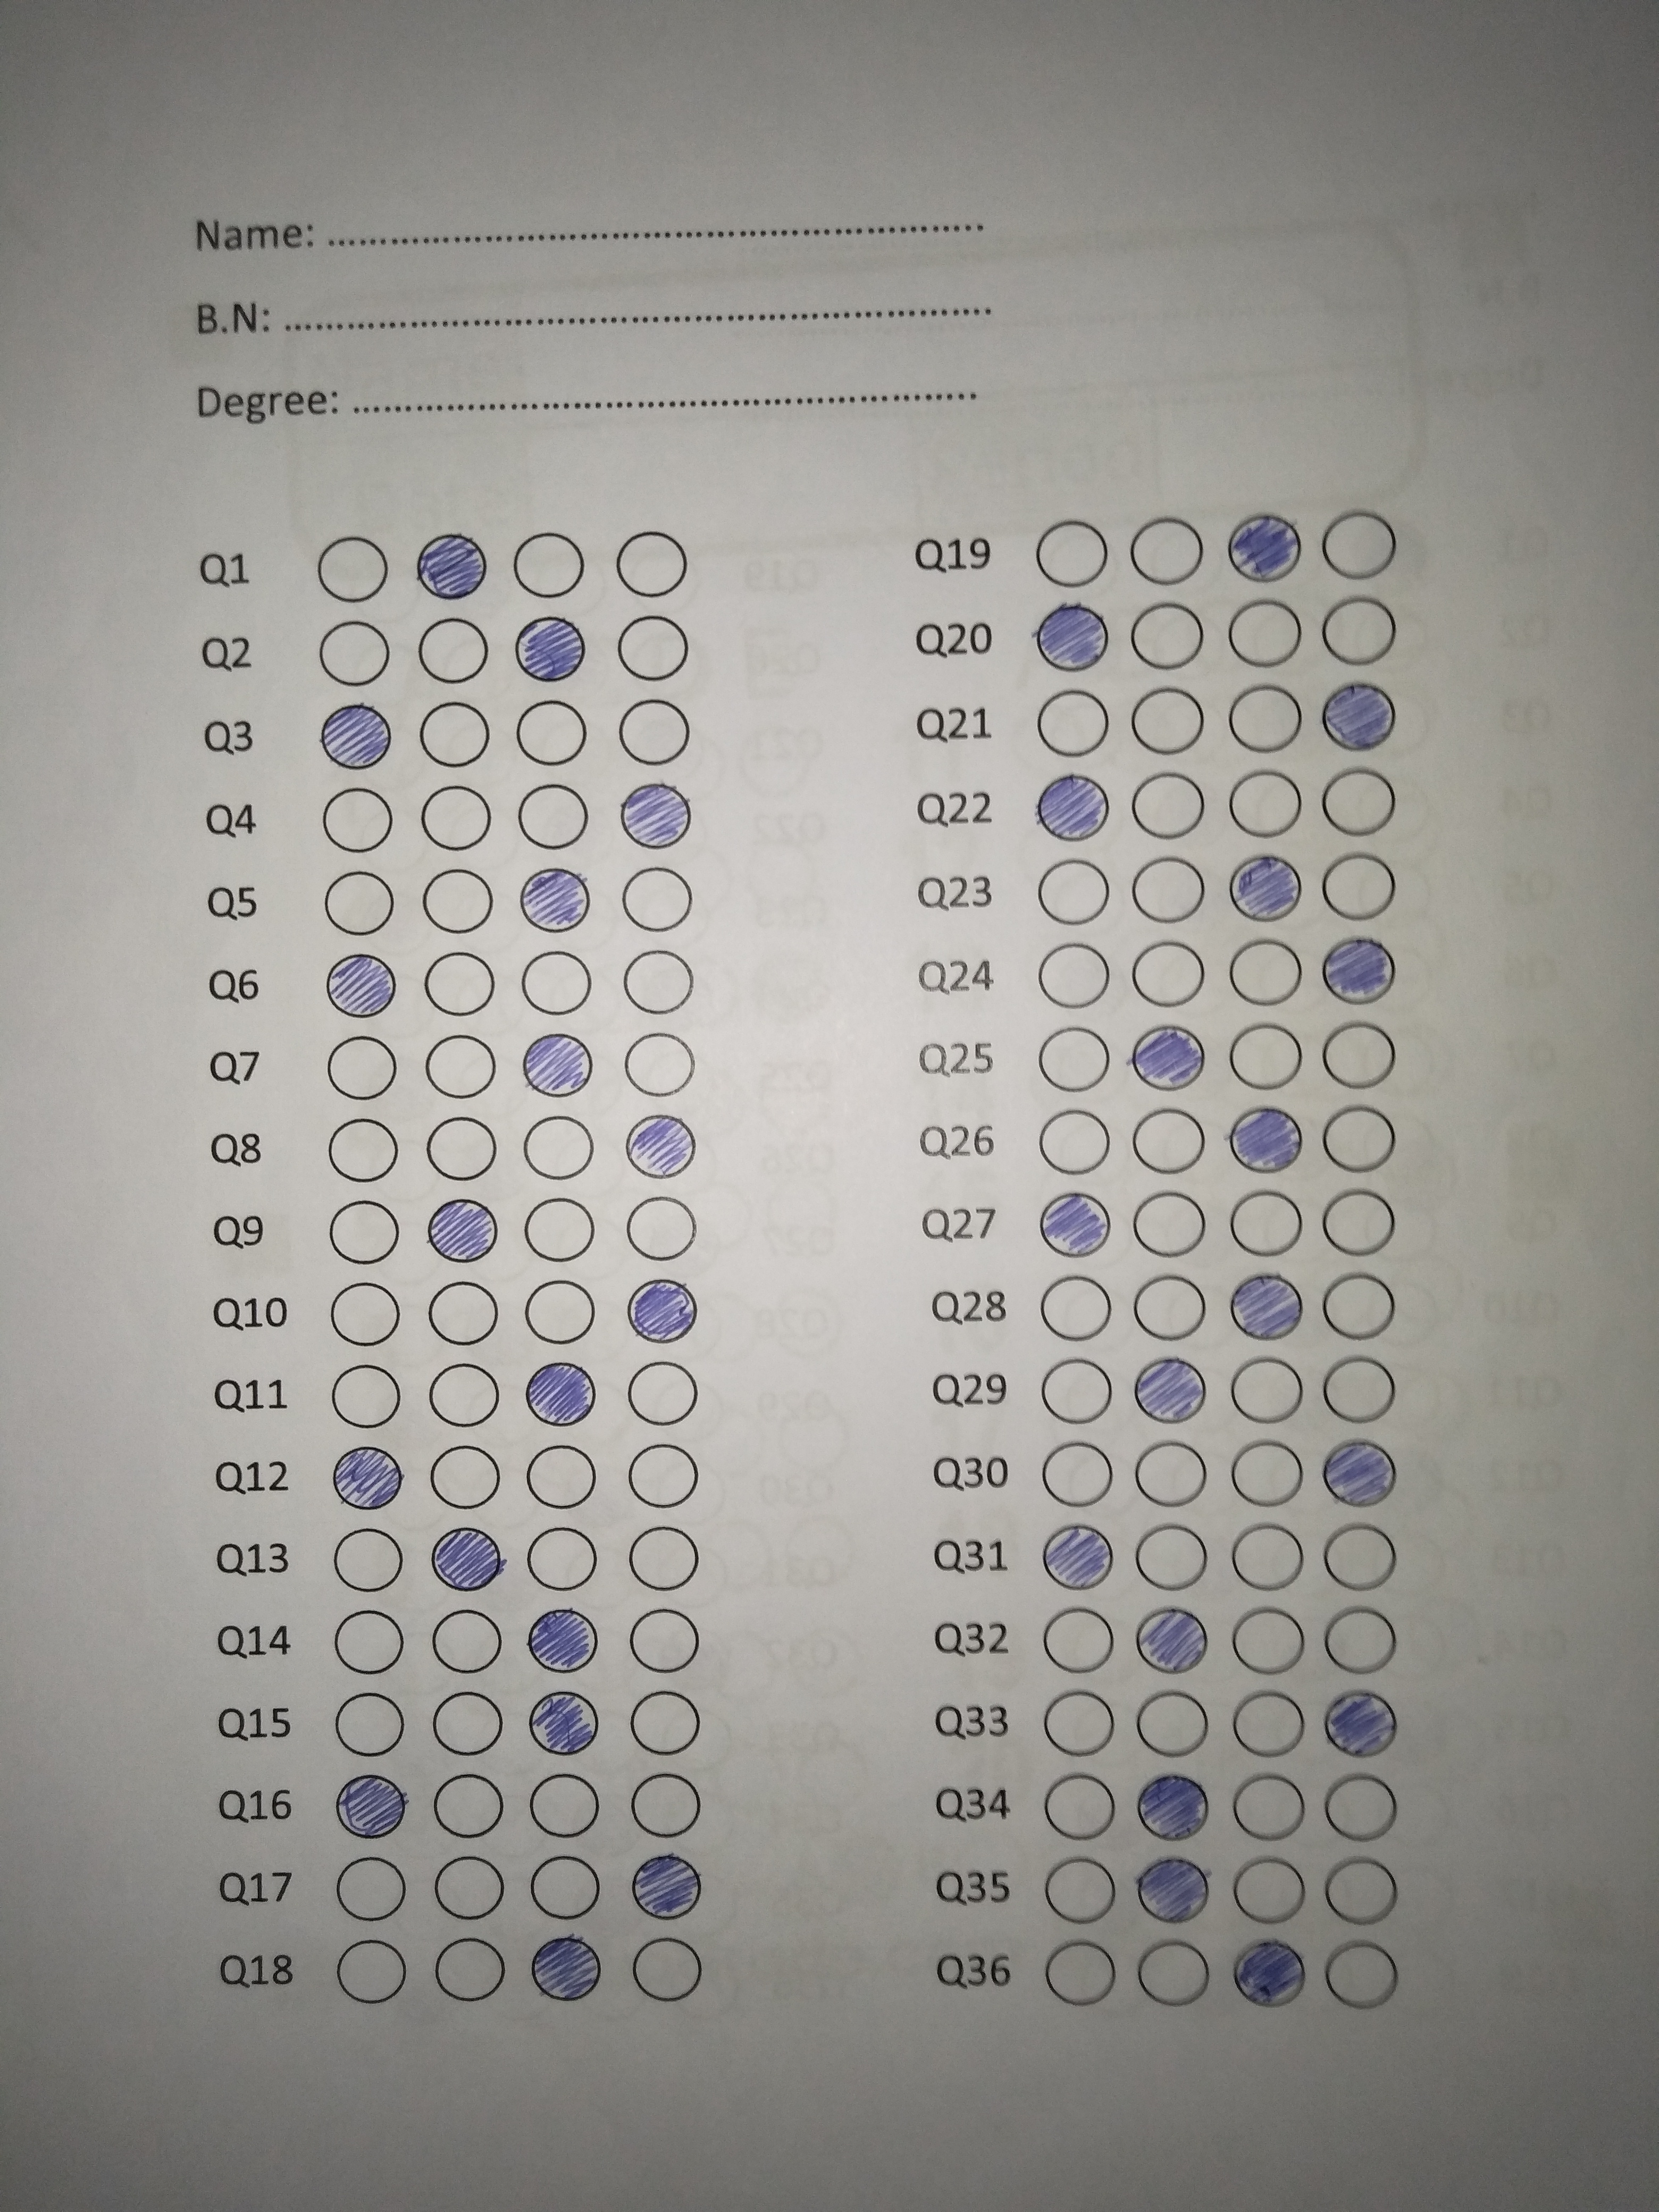not-c: (1310, 500, 1410, 589), (1312, 1350, 1415, 1430), (1223, 1848, 1316, 1932), (418, 1686, 516, 1764), (1225, 678, 1314, 763), (1121, 765, 1216, 843), (504, 521, 591, 606), (1321, 1519, 1406, 1606), (1222, 937, 1309, 1021), (1117, 510, 1208, 590), (1037, 1932, 1127, 2012), (1124, 1101, 1216, 1179), (1215, 1433, 1307, 1512), (1309, 1184, 1403, 1261), (1316, 1858, 1413, 1932), (1319, 1771, 1406, 1853), (1026, 683, 1115, 763), (1127, 1521, 1218, 1599), (1223, 1514, 1307, 1597), (619, 1608, 706, 1688), (1310, 1268, 1398, 1348), (1312, 1942, 1410, 2013), (1127, 1266, 1216, 1345), (1122, 942, 1215, 1017), (620, 1442, 714, 1515), (1032, 1101, 1115, 1183), (1039, 1602, 1122, 1684), (1040, 1766, 1124, 1848), (1316, 1019, 1401, 1099), (1216, 1183, 1303, 1261), (423, 1770, 512, 1846), (1220, 1355, 1310, 1430), (319, 1691, 411, 1764), (1223, 590, 1307, 671), (1321, 759, 1405, 840), (1127, 850, 1208, 934), (1126, 1433, 1209, 1514), (418, 1271, 504, 1350), (620, 1521, 706, 1599), (613, 1935, 709, 2005), (1122, 676, 1209, 752), (1216, 1024, 1312, 1094), (1223, 1602, 1310, 1679), (1037, 1851, 1126, 1926), (1312, 1103, 1403, 1176), (1030, 1275, 1122, 1346), (415, 610, 497, 690), (1030, 512, 1112, 592), (1033, 852, 1115, 932), (1229, 1684, 1309, 1766), (413, 698, 497, 777), (1033, 1017, 1117, 1096), (610, 523, 695, 599), (312, 617, 397, 693), (514, 1271, 599, 1348), (1314, 596, 1399, 672), (1129, 1186, 1215, 1263), (1223, 770, 1310, 845), (1037, 1688, 1124, 1763), (1134, 1937, 1222, 2012), (613, 1359, 702, 1432), (314, 526, 394, 606), (328, 1855, 411, 1932), (420, 1440, 505, 1515), (1122, 603, 1208, 678), (523, 1529, 610, 1602), (326, 1932, 413, 2005), (1225, 1770, 1312, 1843), (619, 1191, 702, 1266), (326, 1608, 413, 1679), (427, 1608, 514, 1679), (1316, 1608, 1403, 1679), (418, 1357, 500, 1432), (521, 1439, 603, 1514), (324, 1524, 406, 1599), (1321, 845, 1396, 927), (1037, 1439, 1119, 1514), (622, 1689, 706, 1763), (1035, 939, 1119, 1012), (1131, 1688, 1215, 1761), (610, 615, 695, 686), (1040, 1357, 1122, 1430), (423, 1853, 509, 1923), (317, 1362, 404, 1430), (416, 784, 498, 855), (512, 780, 594, 852), (317, 867, 399, 939), (615, 864, 697, 935), (422, 1031, 504, 1103), (620, 1770, 709, 1834), (613, 698, 694, 770), (317, 784, 397, 855), (420, 948, 500, 1019), (516, 948, 596, 1019), (619, 946, 699, 1017), (322, 1029, 403, 1101), (328, 1197, 408, 1268), (518, 1195, 598, 1266), (511, 698, 591, 768), (416, 869, 497, 939), (619, 1029, 699, 1099), (326, 1115, 406, 1184), (422, 1115, 502, 1184), (519, 1113, 599, 1183), (430, 1935, 511, 2005), (525, 1768, 599, 1841), (525, 1848, 598, 1923), (328, 1277, 406, 1346)
taken-c: (1317, 678, 1398, 754), (1229, 1099, 1305, 1177), (1232, 1933, 1309, 2012), (1037, 597, 1112, 676), (1033, 768, 1112, 843), (1134, 1851, 1213, 1926), (1227, 1271, 1307, 1345), (1229, 509, 1303, 585), (1227, 852, 1303, 927), (1134, 1770, 1211, 1844), (615, 777, 694, 850), (1321, 934, 1399, 1007), (1037, 1521, 1115, 1594), (314, 700, 394, 772), (1321, 1439, 1401, 1510), (1134, 1601, 1209, 1676), (1323, 1686, 1399, 1759), (1131, 1355, 1209, 1426), (528, 1604, 603, 1677), (413, 529, 490, 601), (518, 866, 592, 937), (324, 949, 399, 1021), (1131, 1021, 1206, 1092), (518, 1029, 596, 1097), (626, 1275, 699, 1346), (525, 1360, 599, 1430), (335, 1771, 408, 1841), (624, 1111, 699, 1179), (329, 1444, 406, 1510), (629, 1851, 701, 1921), (429, 1526, 502, 1594), (512, 615, 587, 681), (425, 1198, 500, 1264), (1037, 1193, 1112, 1259), (526, 1688, 599, 1754), (530, 1937, 599, 2001)
